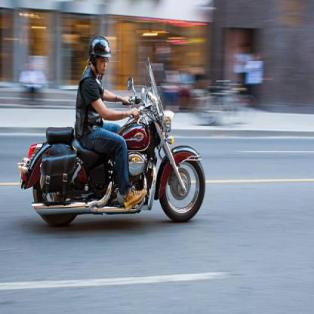Motocicleta: (19, 79, 210, 225)
